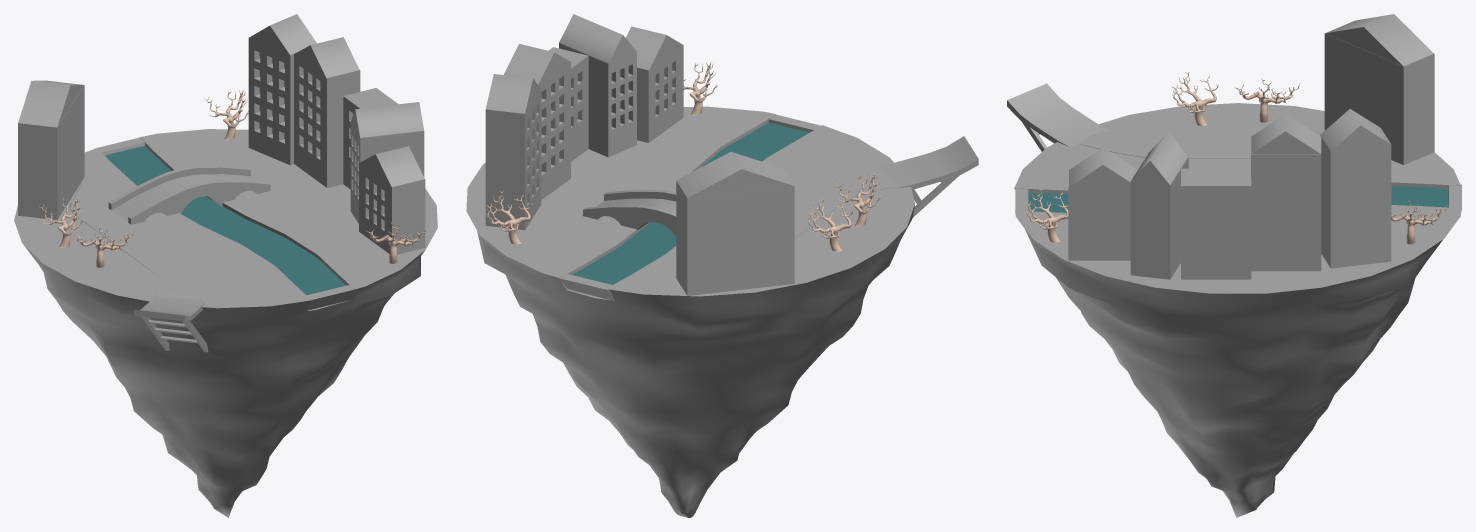
Rendered from GameJam.Island.fbx.
The picture shows the model from 3 angles, left to right: view 1: azimuth 30°, elevation 25°; view 2: azimuth 150°, elevation 25°; view 3: azimuth 270°, elevation 25°; orthographic projection. The views are drawn at different scales.
Visible parts, largest first — view 1: polySurface10, pCube74, pCube118, polySurface17, polySurface15, polySurface13, pCube128, polySurface20, polySurface19, pCube127, pCube125, pCube117 (+9 smaller); view 2: polySurface10, pCube118, polySurface15, pCube74, polySurface19, polySurface17, polySurface20, pCube127, pCube119, polySurface13, pCube128, pCube125 (+9 smaller); view 3: polySurface10, pCube118, polySurface17, polySurface15, polySurface18, polySurface19, polySurface20, pCube119, pCube127, pCube128, pCube117, pCube126 (+7 smaller).
Boxes of the visible parts, bbox=[...] form: polySurface10: bbox=[14, 129, 437, 517]; pCube74: bbox=[105, 145, 346, 295]; pCube118: bbox=[18, 80, 84, 219]; polySurface17: bbox=[294, 55, 360, 187]; polySurface15: bbox=[248, 38, 294, 165]; polySurface13: bbox=[108, 166, 270, 224]; pCube128: bbox=[69, 174, 196, 298]; polySurface20: bbox=[359, 164, 425, 254]; polySurface19: bbox=[350, 124, 424, 223]; pCube127: bbox=[18, 80, 83, 127]; pCube125: bbox=[350, 102, 423, 138]; pCube117: bbox=[293, 37, 359, 78]; polySurface10: bbox=[466, 106, 914, 517]; pCube118: bbox=[676, 168, 794, 295]; polySurface15: bbox=[485, 88, 541, 230]; pCube74: bbox=[572, 122, 809, 284]; polySurface19: bbox=[559, 43, 636, 157]; polySurface17: bbox=[539, 63, 570, 199]; polySurface20: bbox=[637, 46, 683, 142]; pCube127: bbox=[677, 151, 793, 197]; pCube119: bbox=[878, 136, 978, 189]; polySurface13: bbox=[583, 190, 676, 236]; pCube128: bbox=[652, 170, 894, 271]; pCube125: bbox=[559, 14, 636, 63]; polySurface10: bbox=[1014, 103, 1461, 517]; pCube118: bbox=[1324, 20, 1434, 164]; polySurface17: bbox=[1251, 137, 1321, 271]; polySurface15: bbox=[1320, 135, 1391, 268]; polySurface18: bbox=[1181, 168, 1251, 279]; polySurface19: bbox=[1130, 157, 1188, 279]; polySurface20: bbox=[1068, 170, 1130, 260]; pCube119: bbox=[1007, 83, 1109, 147]; pCube127: bbox=[1325, 14, 1433, 66]; pCube128: bbox=[1079, 130, 1250, 158]; pCube117: bbox=[1251, 114, 1320, 153]; pCube126: bbox=[1069, 147, 1137, 187].
Size of the model in its own units: 612 by 686 by 617.
